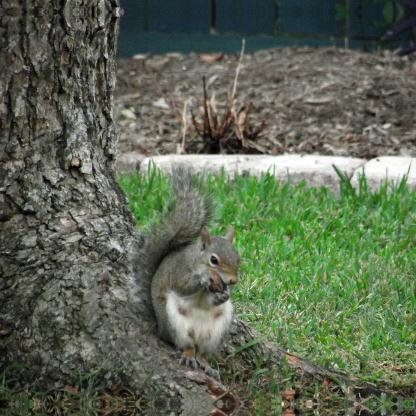Squirrel: (137, 176, 243, 374)
